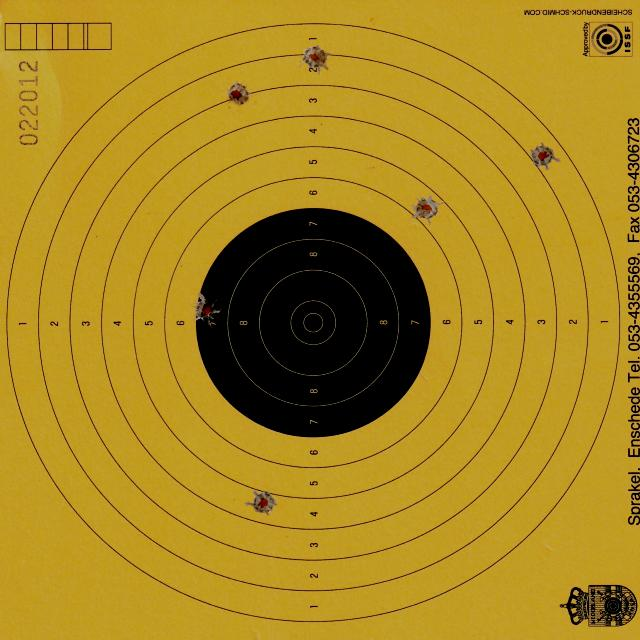2: (299, 43, 331, 76), (528, 141, 562, 172)
3: (225, 80, 252, 108)
5: (245, 489, 278, 516)
6: (410, 193, 445, 226)
7: (188, 289, 225, 327)
Target: (5, 18, 623, 624)
black_contour: (194, 207, 429, 438)
